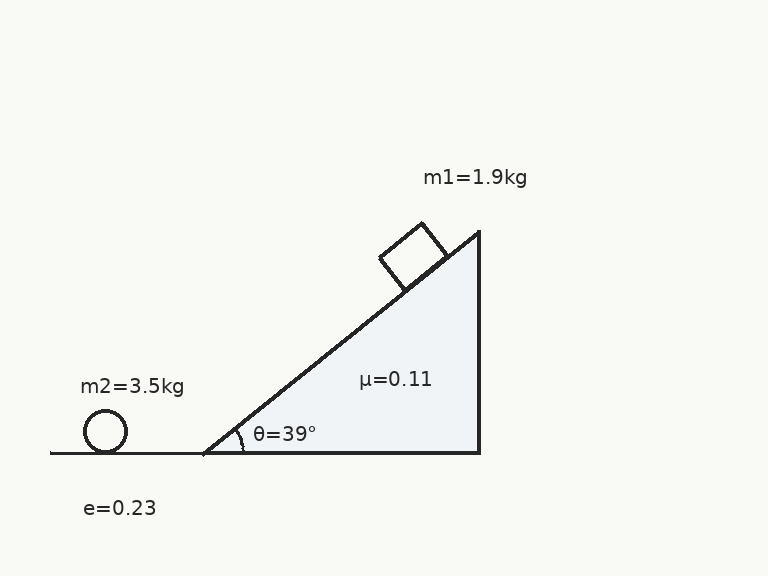ball: (81, 407, 129, 455)
block: (377, 221, 450, 292)
ramp: (201, 228, 480, 455)
